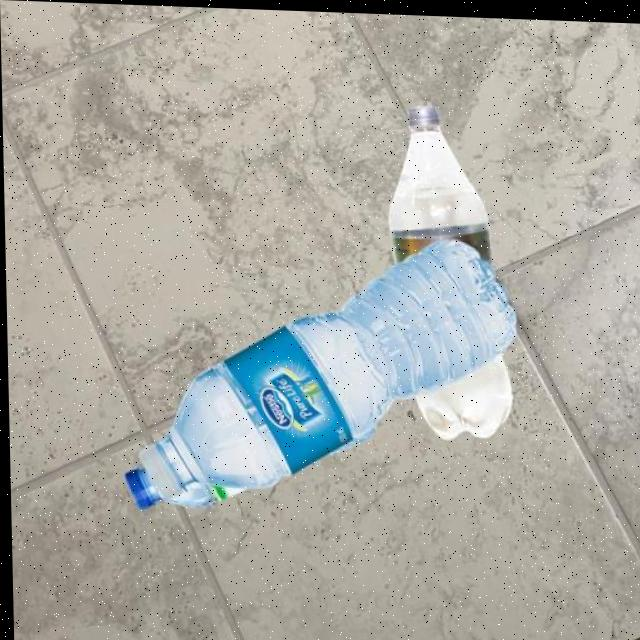bottle: (116, 223, 519, 521), (383, 97, 514, 439)
